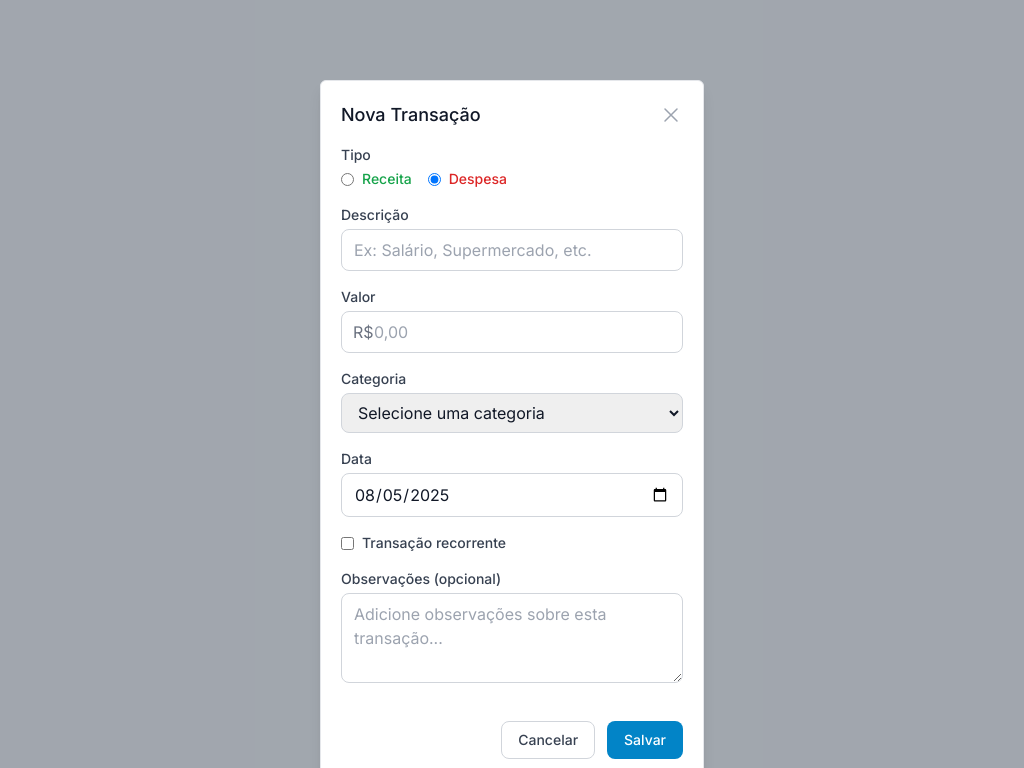
TransactionForm › valida campos obrigatórios
// Tentar salvar sem preencher campos obrigatórios
Click the button "Salvar".
click(645, 740)  # box [607, 721, 683, 759]
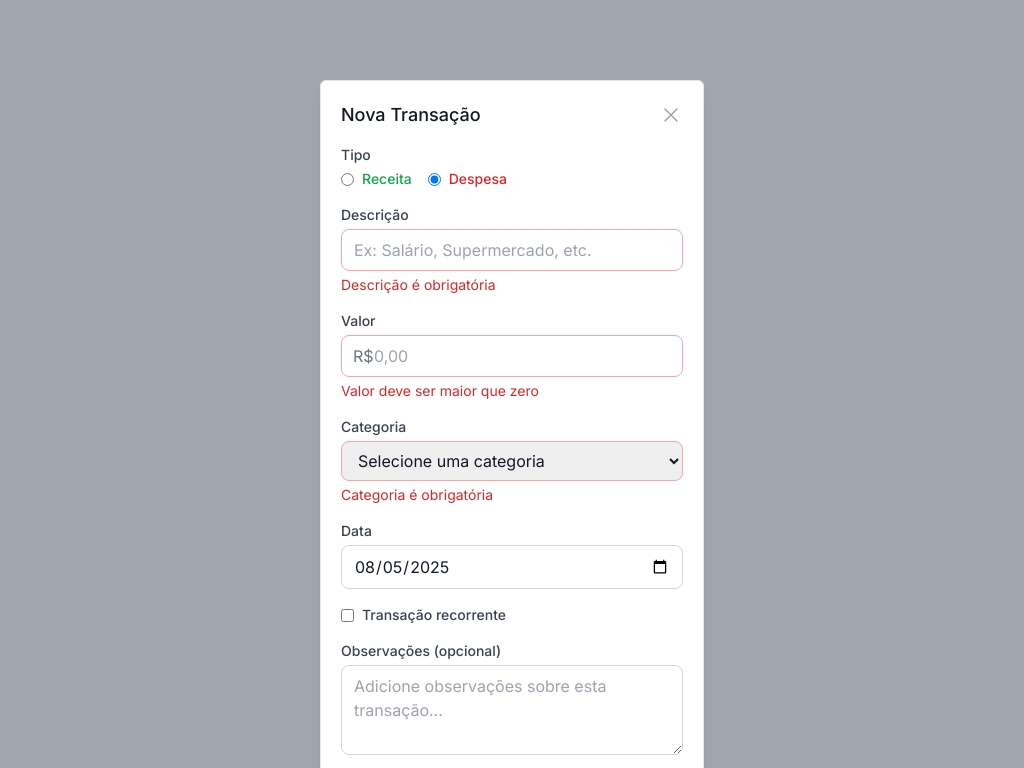
Result: the text "Descrição é obrigatória" is shown at [341, 276, 496, 293]
Result: the text "Valor deve ser maior que zero" is shown at [341, 382, 539, 399]
Result: the text "Categoria é obrigatória" is shown at [341, 486, 493, 503]
